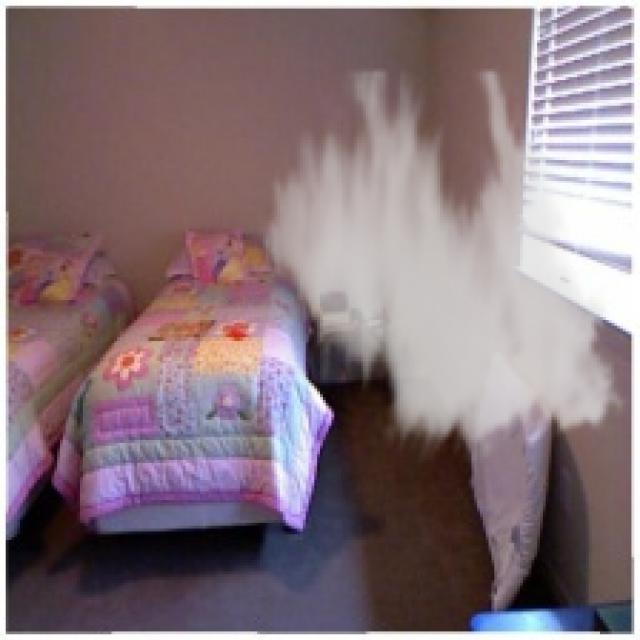Smoke: (252, 68, 634, 463)
